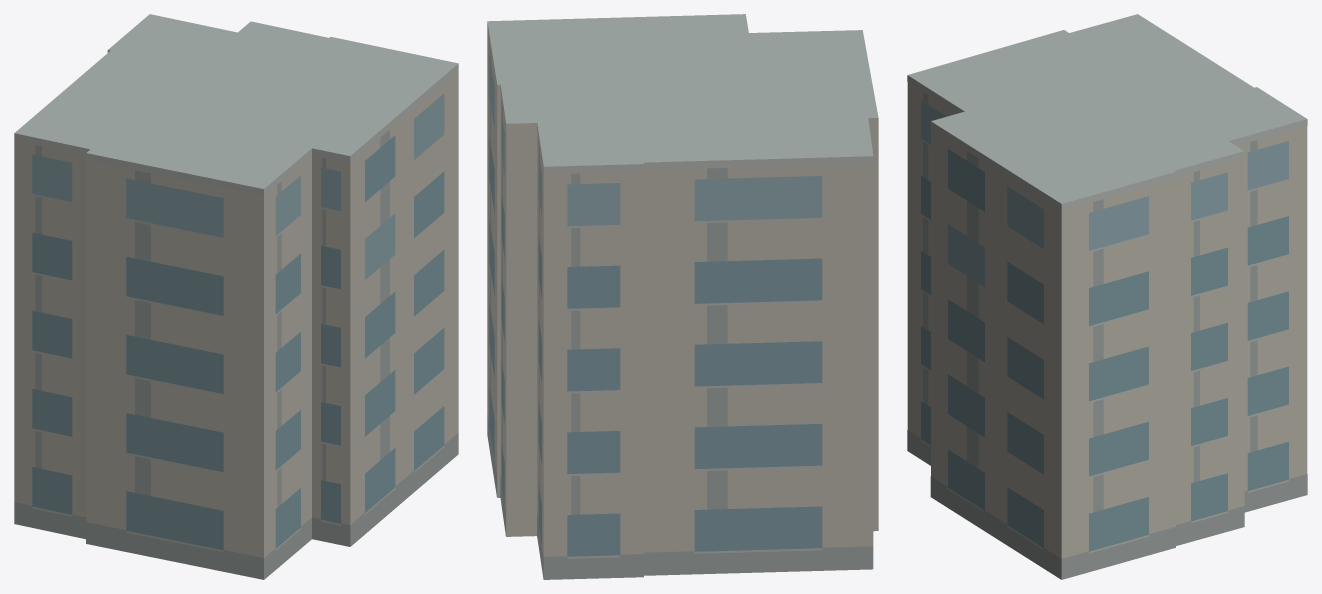
File: survey-upis-32956263.glb
3 views of the same model, side by side, from view 1: azimuth 30°, elevation 25°; view 2: azimuth 150°, elevation 25°; view 3: azimuth 270°, elevation 25° (orthographic). The views are drawn at different scales.
Parts seen in each view (by area): view 1: survey-upis-32956263.tmp; view 2: survey-upis-32956263.tmp; view 3: survey-upis-32956263.tmp.
Boxes of the visible parts, x1=… form: survey-upis-32956263.tmp: x1=14, y1=14, x2=458, y2=579; survey-upis-32956263.tmp: x1=487, y1=14, x2=878, y2=579; survey-upis-32956263.tmp: x1=907, y1=14, x2=1307, y2=579.
Size of the model in its own units: 14.32 by 13.2 by 12.74.
